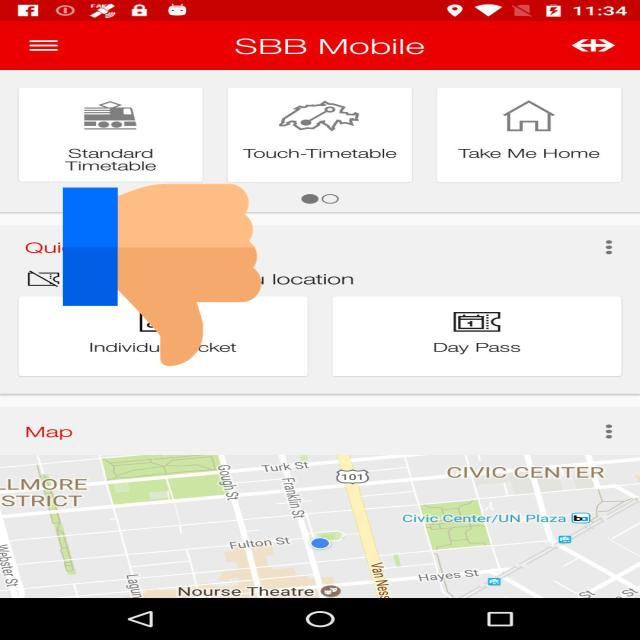obstruction: (63, 179, 261, 371)
